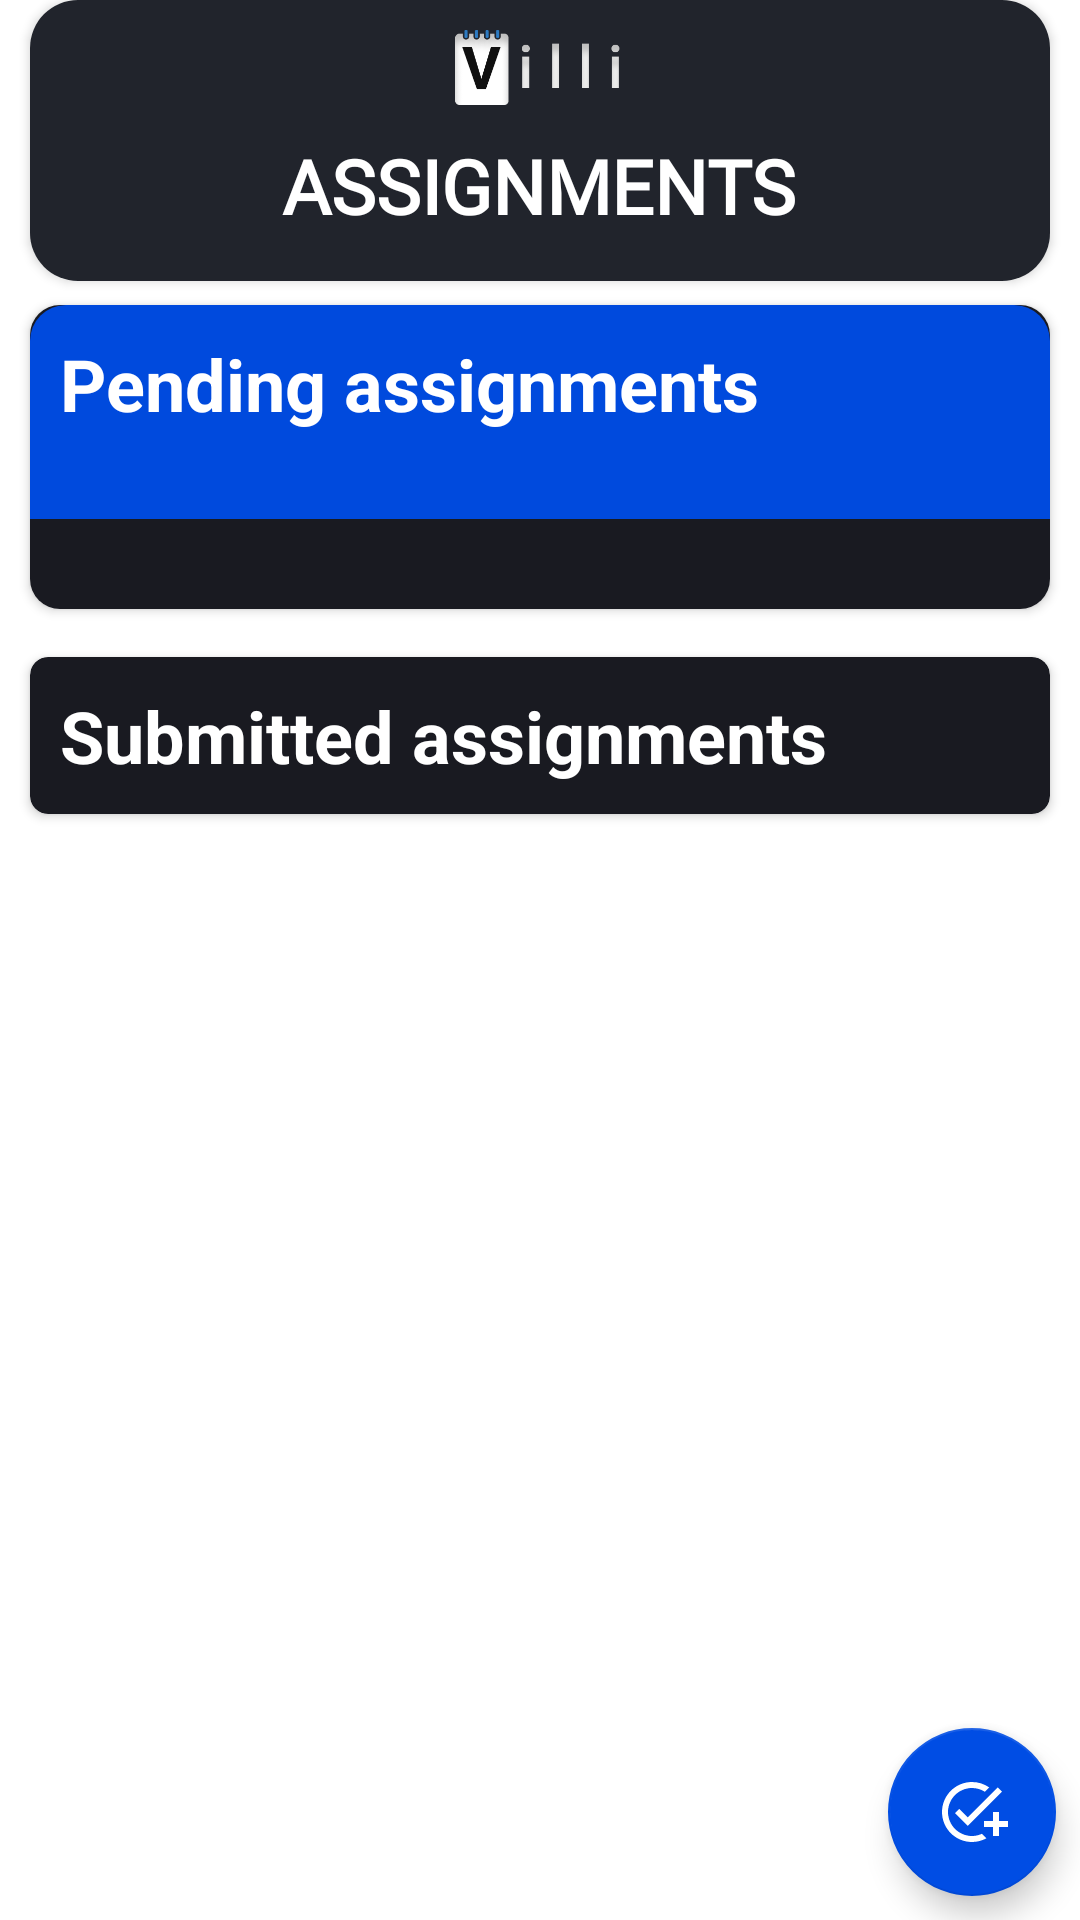

Icon click points for this 1080x1920 phone screenshot, format (x,y):
add task: (972,1812)
